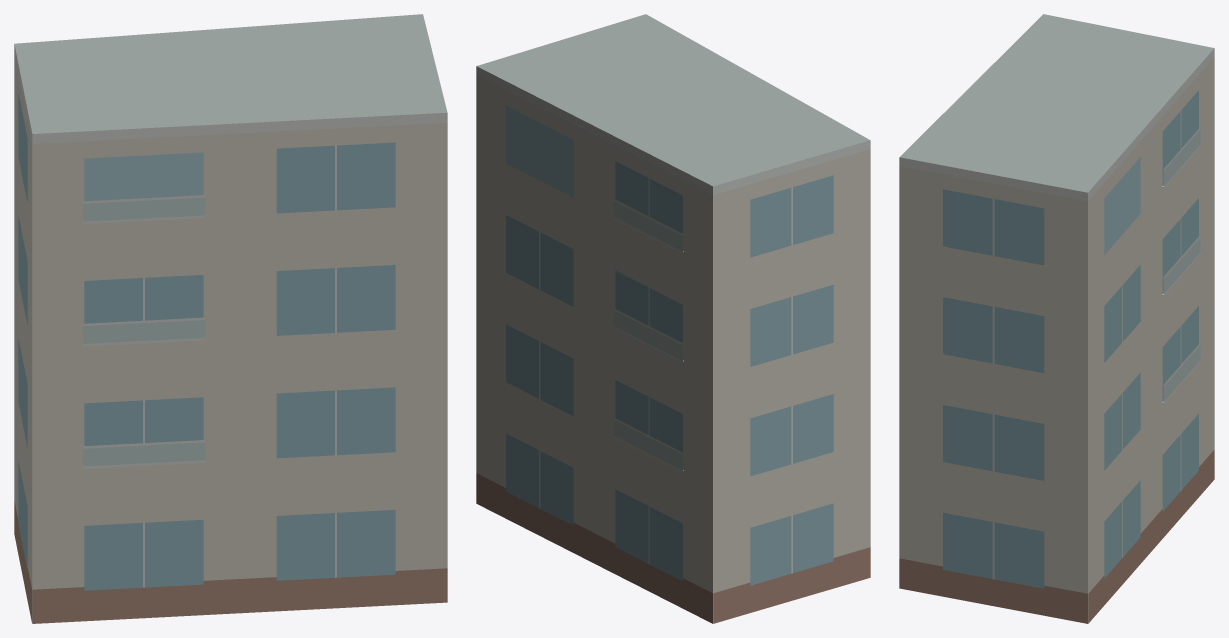
File: survey-upis-32975529.glb
The picture shows the model from 3 angles, left to right: view 1: azimuth 30°, elevation 25°; view 2: azimuth 150°, elevation 25°; view 3: azimuth 270°, elevation 25°; orthographic projection. The views are drawn at different scales.
Visible parts, largest first — view 1: survey-upis-32975529.tmp; view 2: survey-upis-32975529.tmp; view 3: survey-upis-32975529.tmp.
Part boxes in pixels (box(x1,y1,x2,y2)): survey-upis-32975529.tmp: box(14, 14, 447, 623); survey-upis-32975529.tmp: box(476, 14, 870, 623); survey-upis-32975529.tmp: box(899, 14, 1214, 623).
Bounding box in the file's own units: 10.77 × 12.1 × 8.03.
